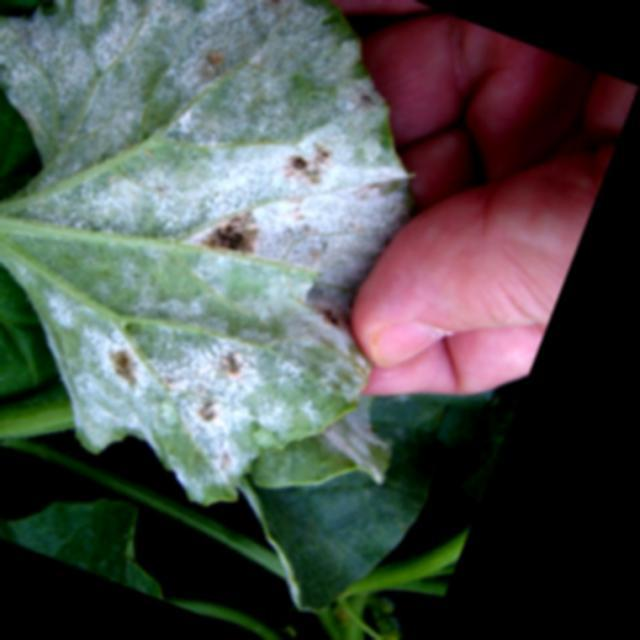Leaf_Mold: (0, 0, 407, 515)
